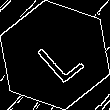L_NW: (25, 26, 85, 84)
